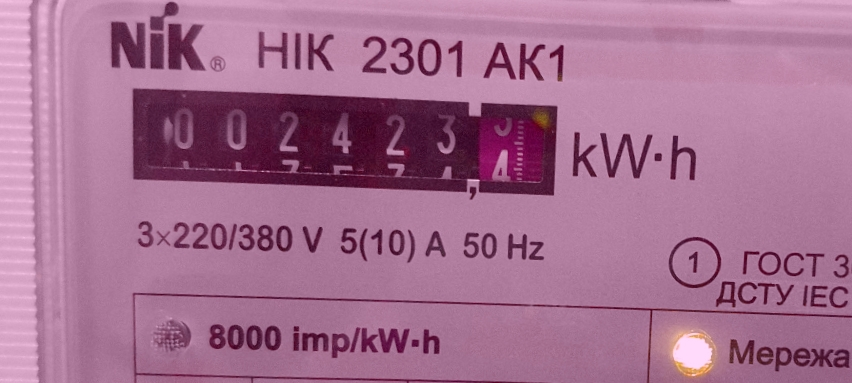0: (169, 102, 198, 152), (222, 105, 249, 151)
2: (274, 107, 302, 154), (381, 111, 407, 158)
3: (432, 110, 458, 156), (491, 113, 513, 137)
4: (328, 109, 353, 155), (487, 144, 514, 183)
screen: (116, 72, 572, 213)
